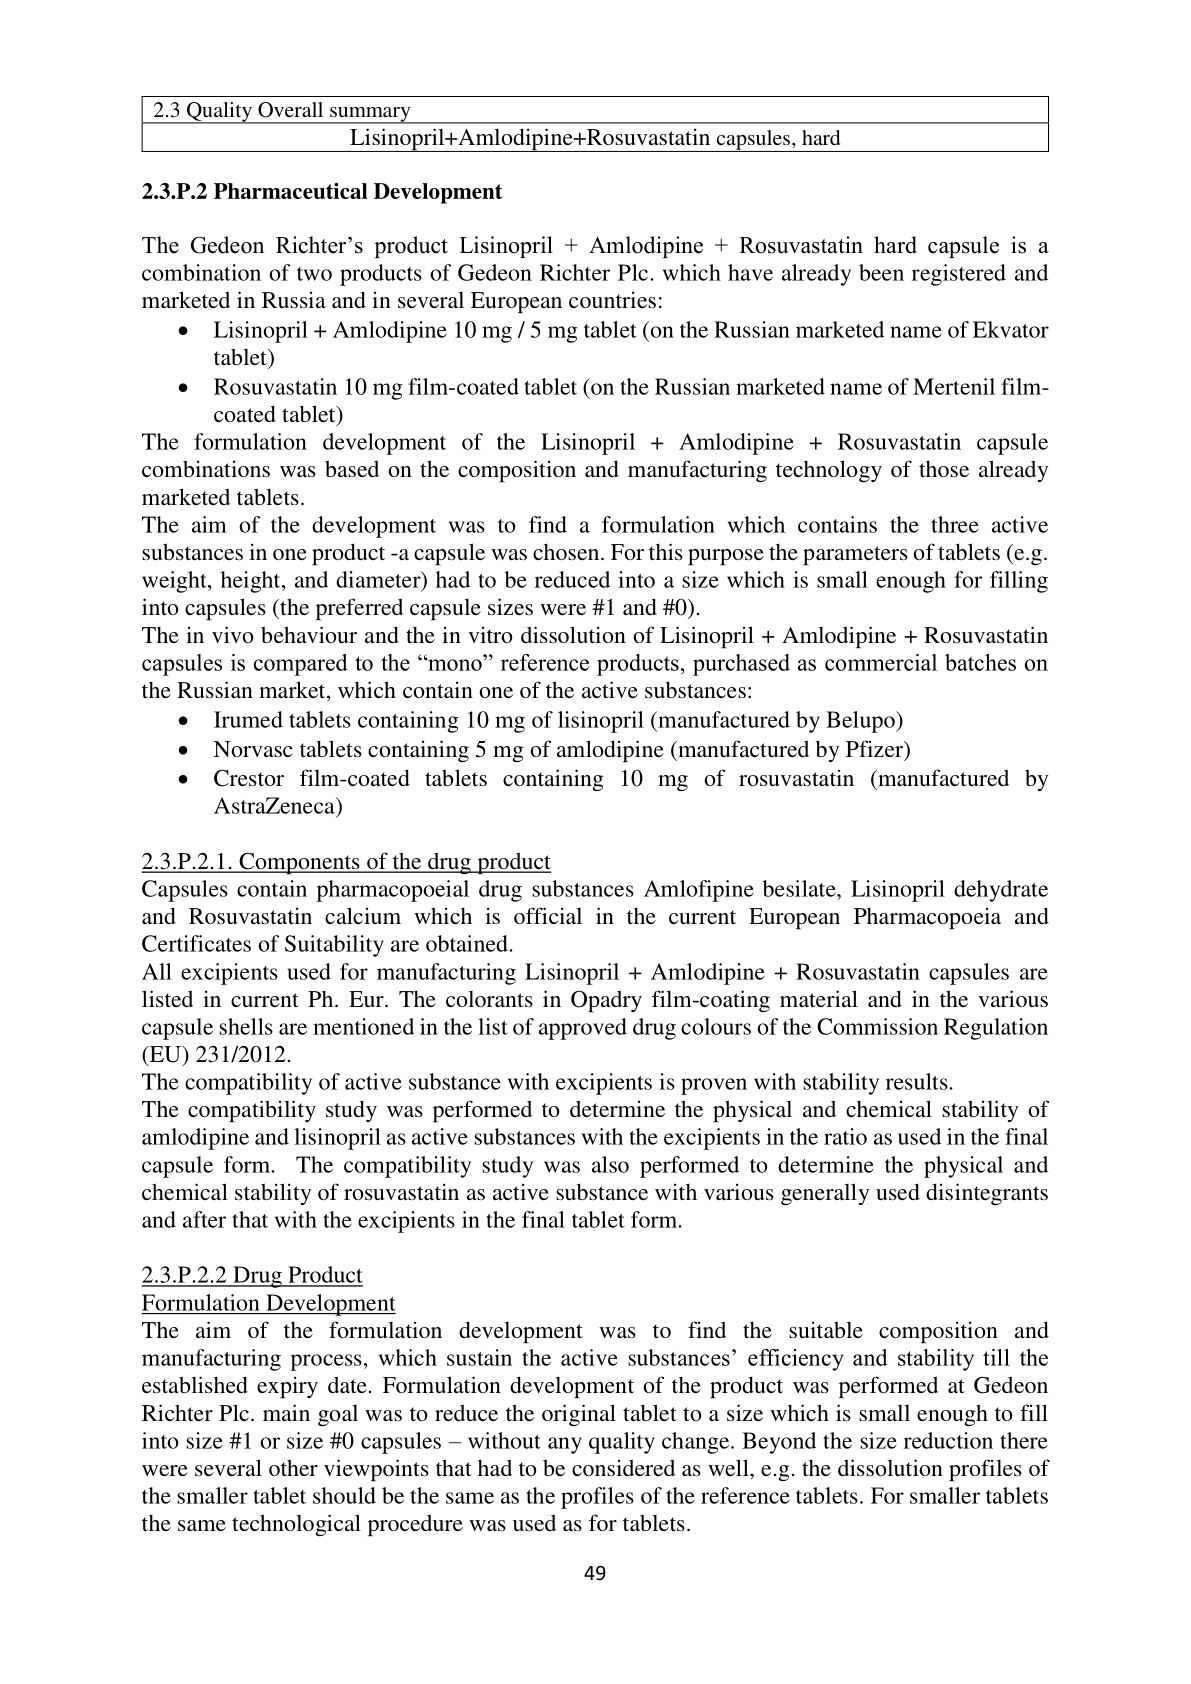full_lined: (142, 91, 1049, 152)
